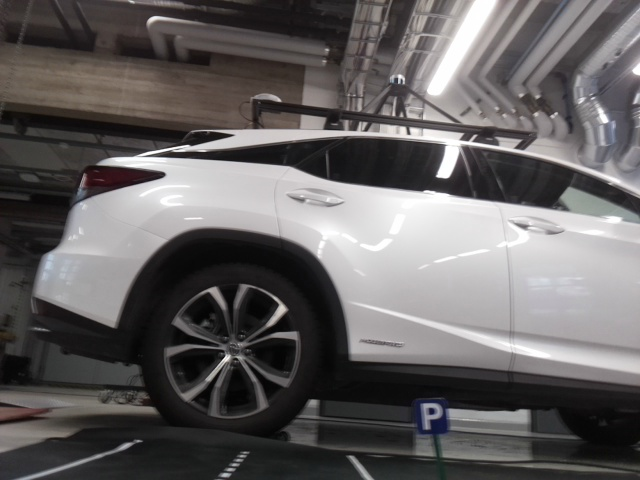Parking: (413, 400, 446, 434)
